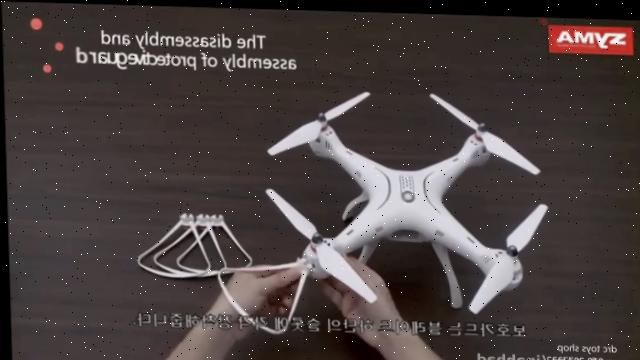drone: (259, 84, 554, 313)
